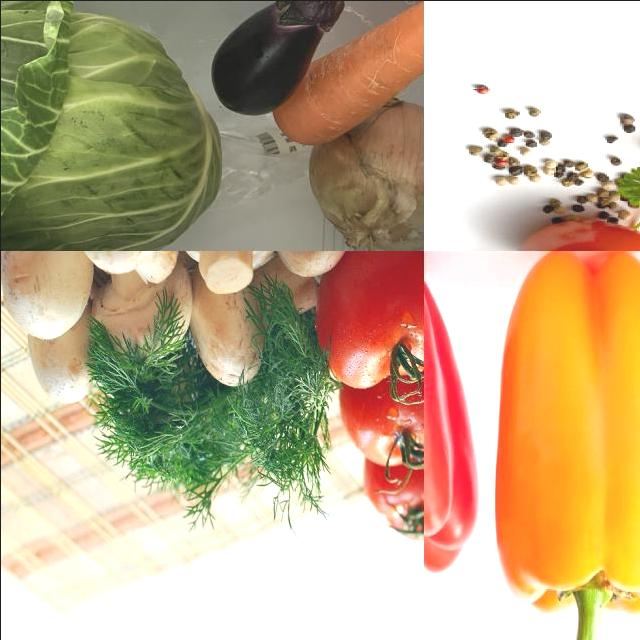bell_pepper: (496, 251, 640, 640), (424, 251, 478, 635)
cabbage: (1, 1, 228, 251)
carrot: (268, 1, 424, 152)
eggplant: (209, 1, 349, 116)
onion: (305, 94, 424, 251)
tomato: (316, 251, 424, 390), (337, 370, 424, 459), (363, 445, 424, 539), (509, 216, 640, 251)
